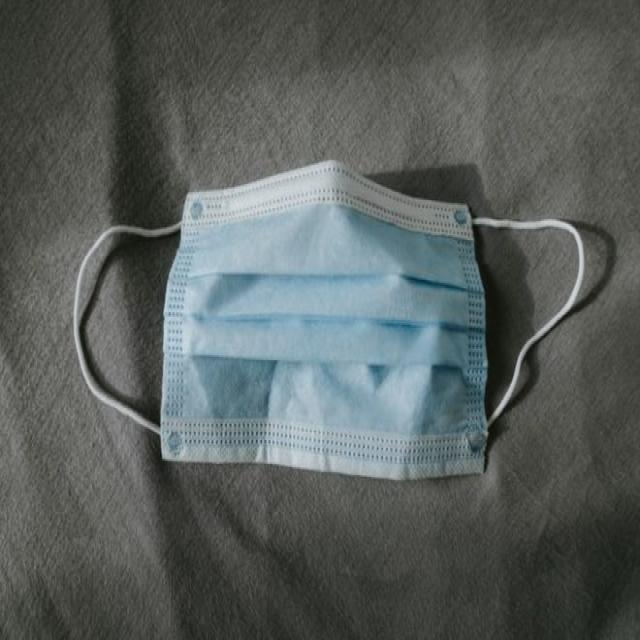face mask: (72, 155, 584, 485)
